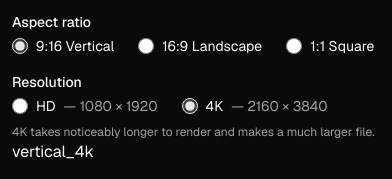
Test: VideoFormatPicker › 1:1 offers HD only, and switching ratio keeps 4K where that ratio supports it
Step 1. Click the radio button labelled "16:9 Landscape" → (146, 46), box [138, 38, 154, 54]
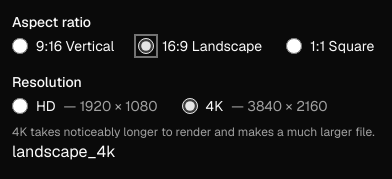
Check: the text with test id "value" reads "landscape_4k", box [12, 141, 116, 162]
Step 2. Click the radio button labelled "1:1 Square" → (294, 46), box [286, 38, 302, 54]
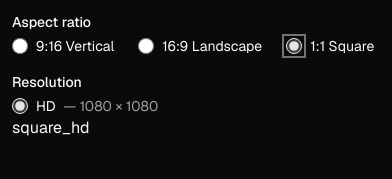
Check: the text with test id "value" reads "square_hd", box [12, 117, 90, 138]
Check: the text with test id "video-format-4k-note" is gone
